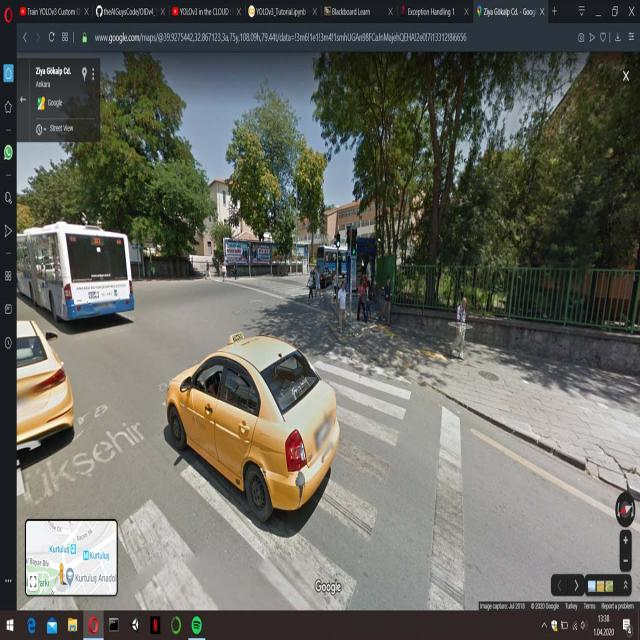yesil: (352, 228, 356, 257)
